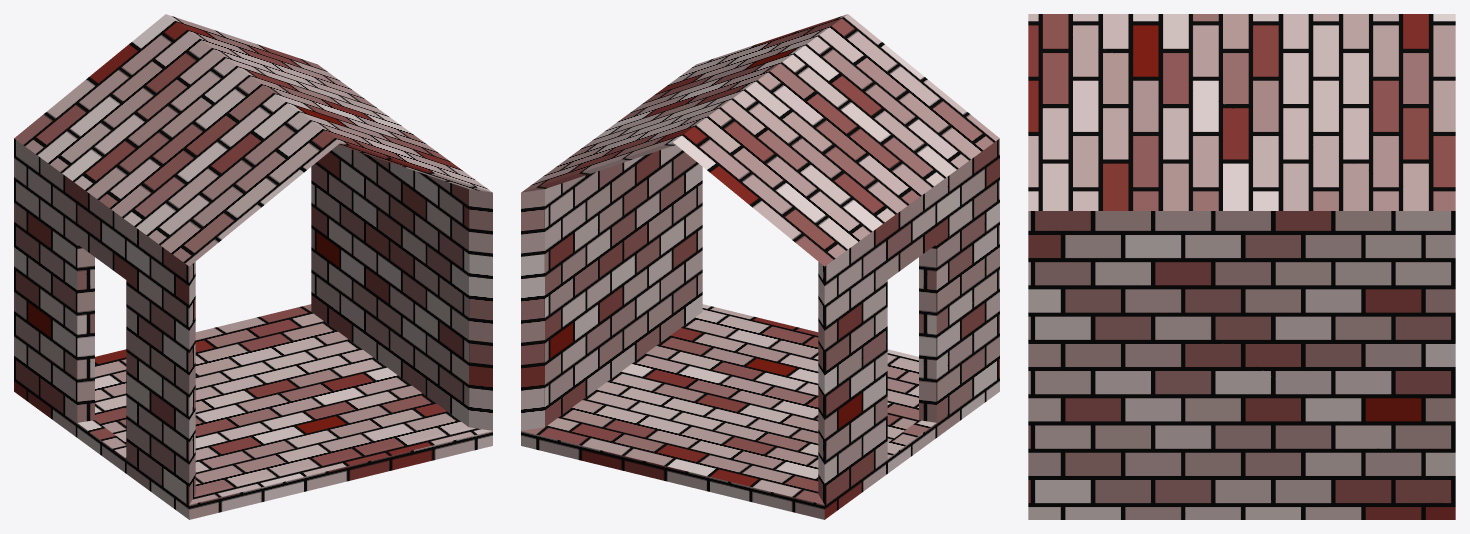
File: hallwayDoor.glb
The picture shows the model from 3 angles, left to right: view 1: azimuth 30°, elevation 25°; view 2: azimuth 150°, elevation 25°; view 3: azimuth 270°, elevation 25°; orthographic projection. The views are drawn at different scales.
Parts seen in each view (by area): view 1: baked.002; view 2: baked.002; view 3: baked.002.
Part boxes in pixels (x1,y1,x2,y2): baked.002: [14, 14, 492, 519]; baked.002: [521, 14, 999, 519]; baked.002: [1028, 14, 1455, 519].
Bounding box in the file's own units: 4 × 4.29 × 4.
1 material, 1 textured.
